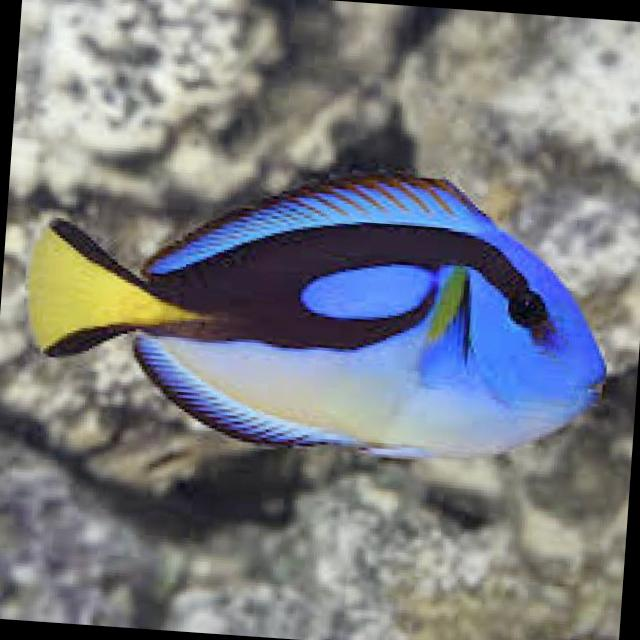TangFish: (8, 141, 620, 474)
